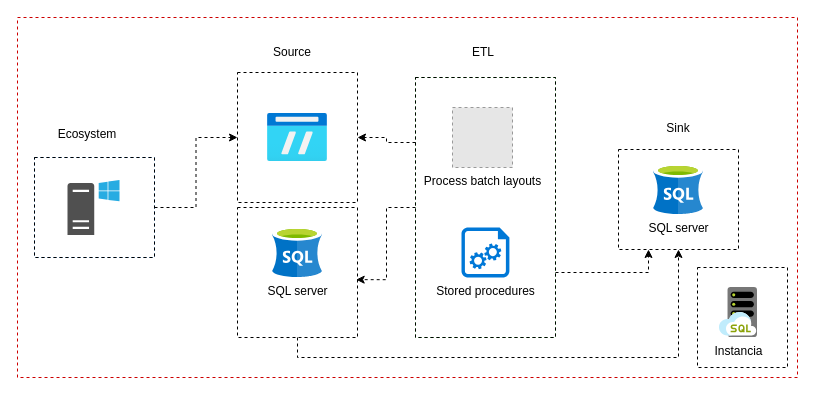
The diagram is 815 pixels wide and 395 high, and some of its shapes have lost their labels. Grey dashed boxes stand in for pictures. Each missing label, with the centre of its shape:
"FTP" belongs at (297,137).
"Windows server" belongs at (93,207).
